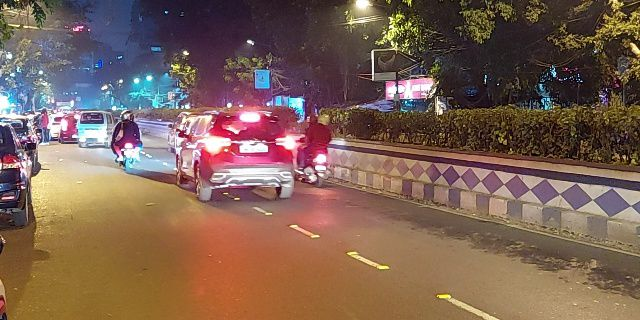Car: (177, 109, 300, 212)
Motorbike: (110, 105, 143, 177)
